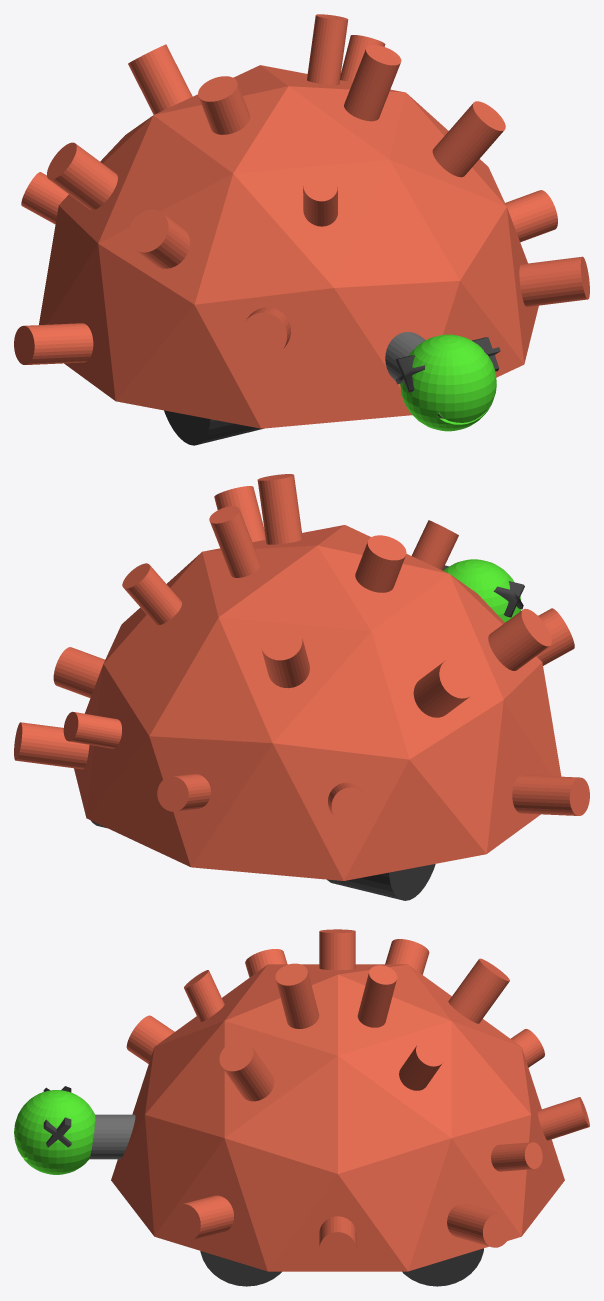
File: tank.fbx
The picture shows the model from 3 angles, top to bottom: view 1: azimuth 30°, elevation 25°; view 2: azimuth 150°, elevation 25°; view 3: azimuth 270°, elevation 25°; orthographic projection. The views are drawn at different scales.
Visible parts, largest first — view 1: Cylinder.007, Sphere, koła przód, szyja, oczy; view 2: Cylinder.007, Sphere, koła tył, oczy; view 3: Cylinder.007, Sphere, szyja, koła tył, koła przód, oczy.
Boxes of the visible parts, x1,y1,x2,y2 form: Cylinder.007: (14,14,589,428); Sphere: (400,334,496,431); koła przód: (164,410,263,445); szyja: (385,332,425,380); oczy: (395,337,500,392); Cylinder.007: (14,474,589,880); Sphere: (443,559,521,622); koła tył: (91,820,435,900); oczy: (442,565,524,617); Cylinder.007: (111,929,589,1271); Sphere: (14,1090,95,1174); szyja: (89,1114,135,1159); koła tył: (402,1248,483,1286); koła przód: (200,1251,281,1286); oczy: (43,1086,71,1147).
Bounding box in the file's own units: 114 × 122 × 65.38.
